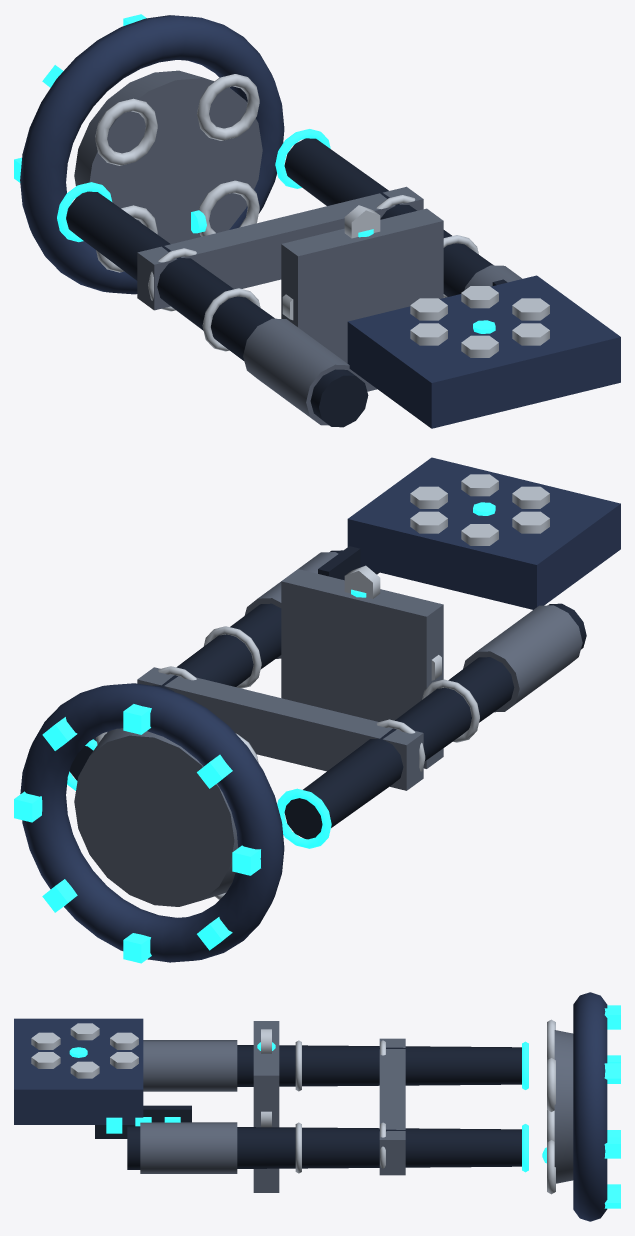
File: tower_skywatch_damage_s7.glb
The picture shows the model from 3 angles, top to bottom: view 1: azimuth 30°, elevation 25°; view 2: azimuth 150°, elevation 25°; view 3: azimuth 270°, elevation 25°; orthographic projection. The views are drawn at different scales.
Parts seen in each view (by area): view 1: skywatch_housing_armour, skywatch_fuse_ring, skywatch_fuse_collar, skywatch_barrel_clamp_b, skywatch_barrel_b_r, skywatch_barrel_b_clamp, skywatch_barrel_b_l, skywatch_barrel_b_jacket_r, skywatch_armour_bolts, skywatch_crown3, skywatch_crown1, skywatch_crown0 (+6 smaller); view 2: skywatch_fuse_ring, skywatch_housing_armour, skywatch_fuse_collar, skywatch_barrel_clamp_b, skywatch_barrel_b_r, skywatch_barrel_b_clamp, skywatch_barrel_b_jacket_r, skywatch_barrel_b_l, skywatch_armour_bolts, skywatch_barrel_b_crown0.3, skywatch_clamp_b_bolts, skywatch_barrel_b_jacket_l (+7 smaller); view 3: skywatch_housing_armour, skywatch_barrel_b_l, skywatch_barrel_b_r, skywatch_fuse_ring, skywatch_barrel_b_jacket_l, skywatch_barrel_b_jacket_r, skywatch_barrel_b_clamp, skywatch_barrel_clamp_b, skywatch_fuse_collar, skywatch_armour_bolts, skywatch_ammo_indicator, skywatch_crown1 (+9 smaller).
Boxes of the visible parts, bbox=[...] form: skywatch_housing_armour: bbox=[347, 275, 620, 428]; skywatch_fuse_ring: bbox=[20, 15, 284, 294]; skywatch_fuse_collar: bbox=[74, 70, 262, 243]; skywatch_barrel_clamp_b: bbox=[281, 208, 443, 391]; skywatch_barrel_b_r: bbox=[66, 191, 368, 427]; skywatch_barrel_b_clamp: bbox=[137, 186, 423, 310]; skywatch_barrel_b_l: bbox=[284, 138, 493, 296]; skywatch_barrel_b_jacket_r: bbox=[243, 318, 362, 425]; skywatch_armour_bolts: bbox=[410, 286, 549, 357]; skywatch_crown3: bbox=[95, 98, 157, 165]; skywatch_crown1: bbox=[197, 74, 259, 140]; skywatch_crown0: bbox=[199, 180, 259, 236]; skywatch_fuse_ring: bbox=[20, 683, 284, 962]; skywatch_housing_armour: bbox=[347, 457, 620, 609]; skywatch_fuse_collar: bbox=[74, 728, 238, 906]; skywatch_barrel_clamp_b: bbox=[281, 569, 443, 768]; skywatch_barrel_b_r: bbox=[284, 603, 586, 839]; skywatch_barrel_b_clamp: bbox=[137, 667, 423, 790]; skywatch_barrel_b_jacket_r: bbox=[463, 605, 582, 712]; skywatch_barrel_b_l: bbox=[69, 550, 342, 780]; skywatch_armour_bolts: bbox=[410, 474, 549, 545]; skywatch_barrel_b_crown0.3: bbox=[277, 788, 331, 848]; skywatch_clamp_b_bolts: bbox=[344, 565, 441, 680]; skywatch_barrel_b_jacket_l: bbox=[244, 552, 338, 658]; skywatch_housing_armour: bbox=[14, 1018, 143, 1124]; skywatch_barrel_b_l: bbox=[127, 1126, 521, 1169]; skywatch_barrel_b_r: bbox=[237, 1045, 521, 1086]; skywatch_fuse_ring: bbox=[573, 992, 607, 1221]; skywatch_barrel_b_jacket_l: bbox=[140, 1122, 237, 1173]; skywatch_barrel_b_jacket_r: bbox=[143, 1040, 237, 1091]; skywatch_barrel_b_clamp: bbox=[379, 1038, 405, 1175]; skywatch_barrel_clamp_b: bbox=[253, 1021, 279, 1192]; skywatch_fuse_collar: bbox=[554, 1030, 573, 1183]; skywatch_armour_bolts: bbox=[31, 1023, 138, 1078]; skywatch_ammo_indicator: bbox=[95, 1105, 191, 1138]; skywatch_crown1: bbox=[547, 1058, 555, 1111].
Size of the model in its own units: 0.762 by 0.71 by 1.88.
